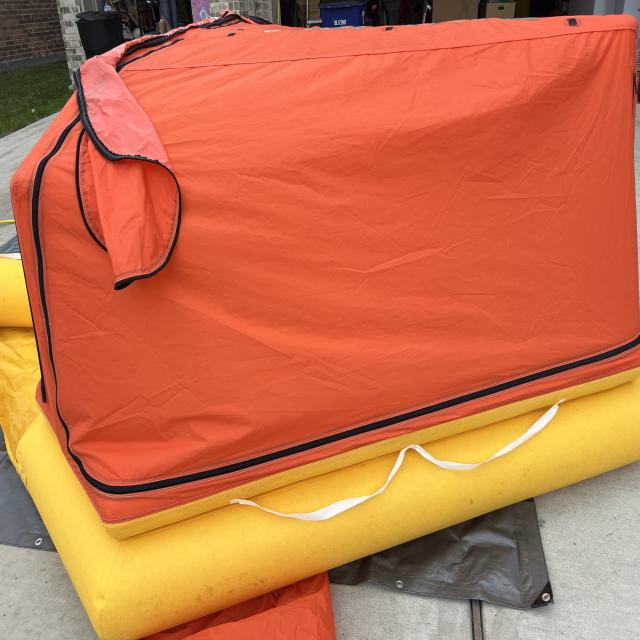Multi-person_life_raft: (1, 8, 640, 639)
